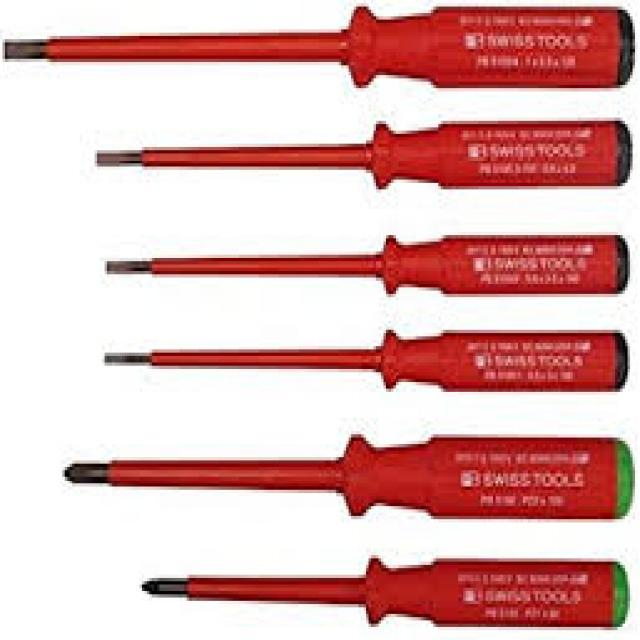screwdriver: (0, 0, 635, 95), (54, 434, 634, 526), (72, 310, 635, 402), (90, 110, 632, 198), (117, 550, 640, 635), (88, 227, 629, 299)
